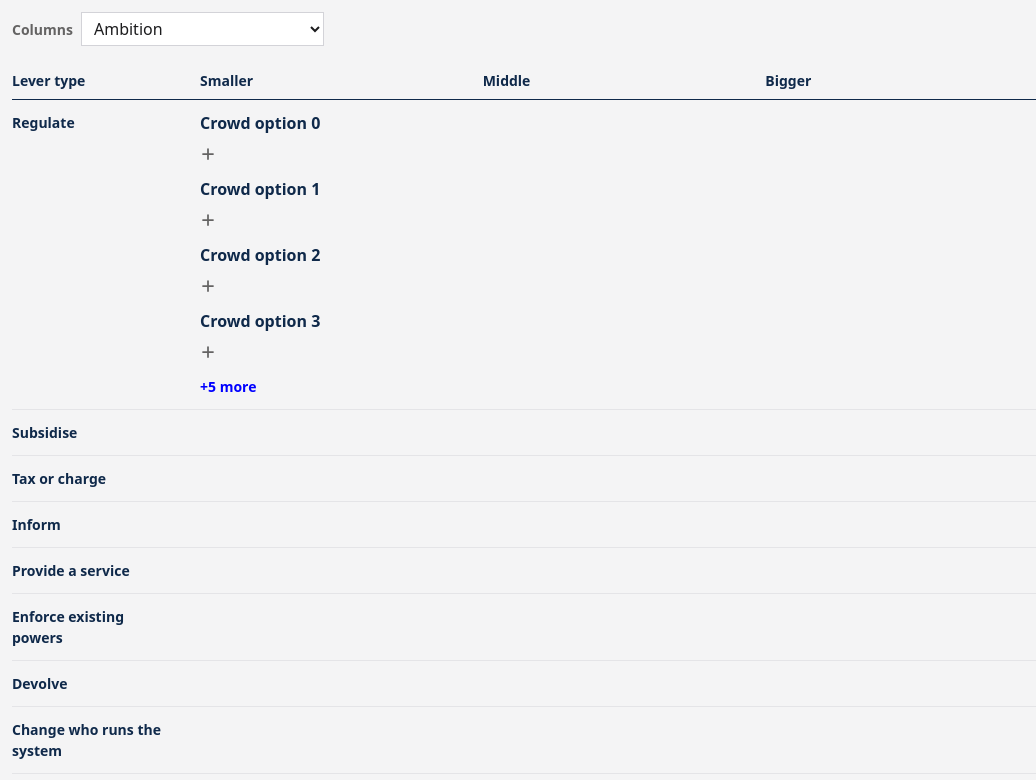
Test case: LonglistGrid › folds a crowded cell behind +N more
Check: the number of links "Crowd option 0" is 4, box [200,112,320,134]; [200,178,320,200]; [200,244,320,266]; [200,310,320,332]
Click the button "+5 more" at (228, 386), box [200,376,256,397]
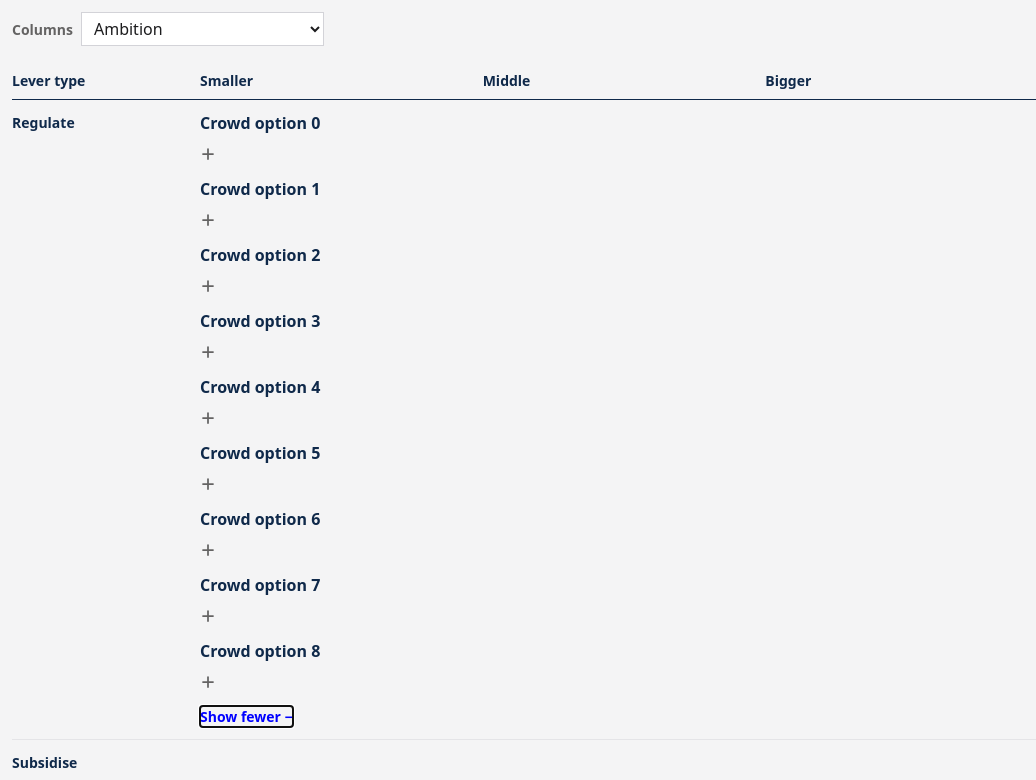
Check: the number of links "Crowd option 0" is 9
Click the button "Show fewer −" at (246, 716), box [200,706,293,727]
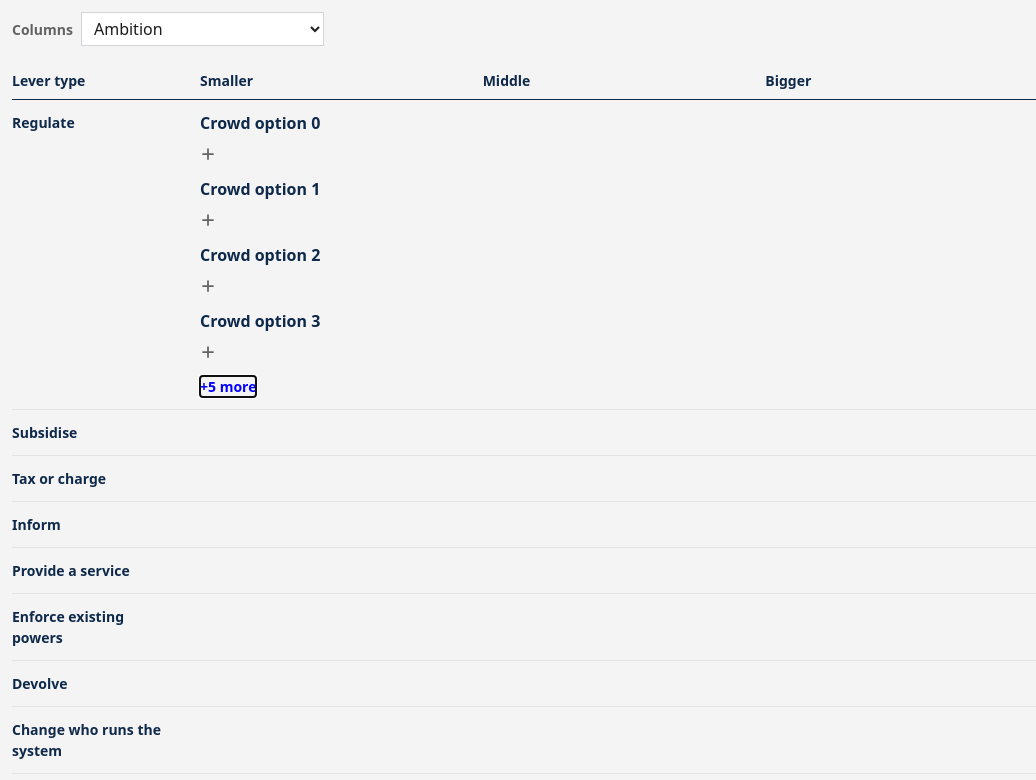
Check: the number of links "Crowd option 0" is 4, box [200,112,320,134]; [200,178,320,200]; [200,244,320,266]; [200,310,320,332]
